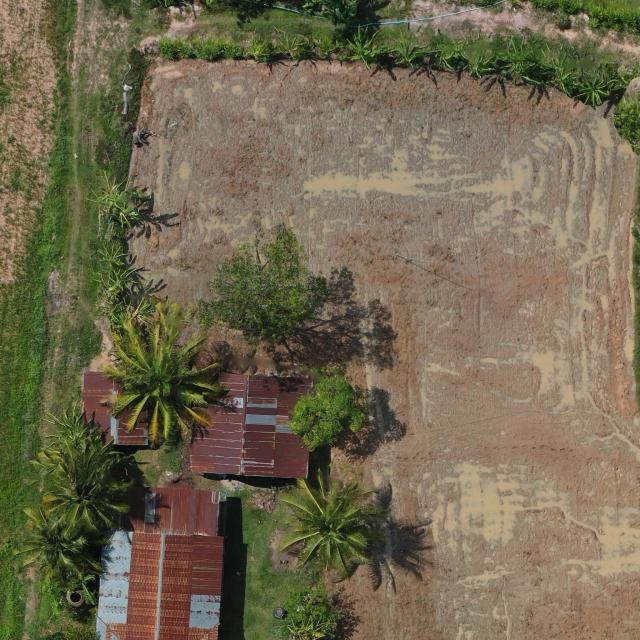Tree: (196, 220, 332, 346), (99, 320, 226, 449), (278, 468, 391, 580), (29, 449, 133, 541), (288, 376, 367, 454), (13, 506, 89, 584), (86, 169, 152, 230), (284, 582, 346, 640), (39, 396, 104, 448), (94, 294, 153, 328), (500, 34, 539, 85), (460, 29, 499, 79), (571, 70, 619, 108), (386, 23, 425, 69), (346, 23, 384, 70), (540, 43, 572, 98), (91, 265, 144, 298), (424, 36, 462, 74), (275, 31, 309, 62), (97, 243, 128, 273), (241, 35, 272, 62), (314, 35, 340, 60)
